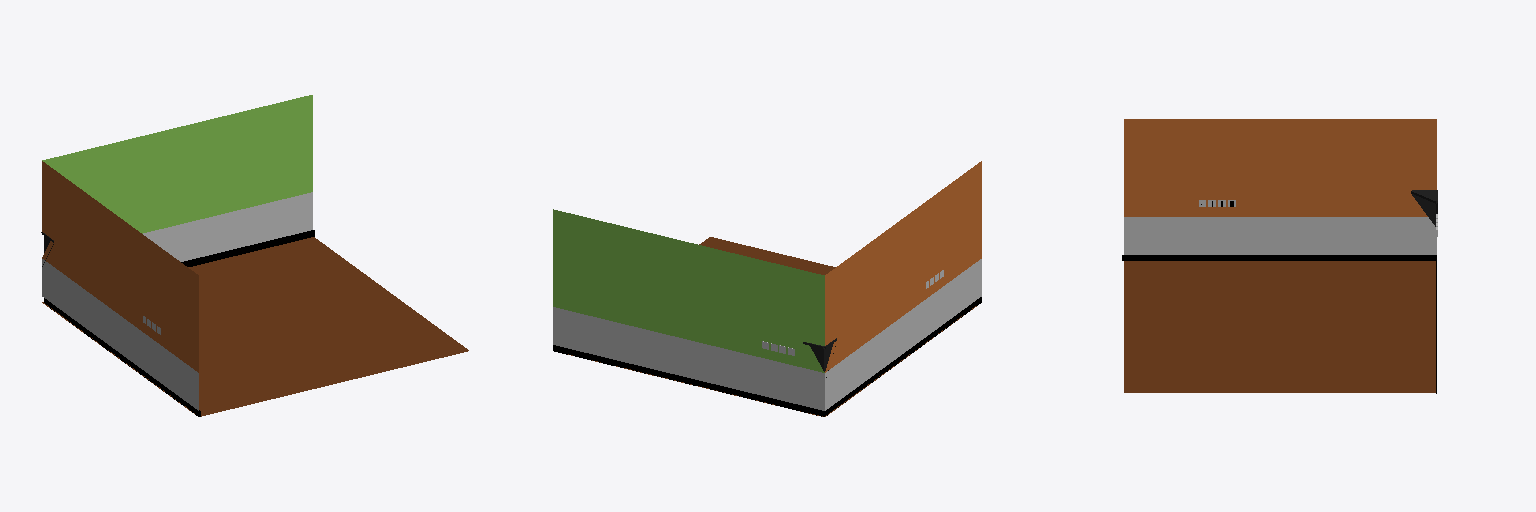
File: Wall.obj
The picture shows the model from 3 angles: view 1: azimuth 30°, elevation 25°; view 2: azimuth 150°, elevation 25°; view 3: azimuth 270°, elevation 25°; orthographic projection.
Visible parts, largest first — view 1: Wall; view 2: Wall; view 3: Wall.
Boxes of the visible parts, x1=… form: Wall: x1=41, y1=95, x2=468, y2=416; Wall: x1=553, y1=161, x2=981, y2=416; Wall: x1=1122, y1=119, x2=1437, y2=393.
Size of the model in its own units: 16.17 by 8 by 16.1.